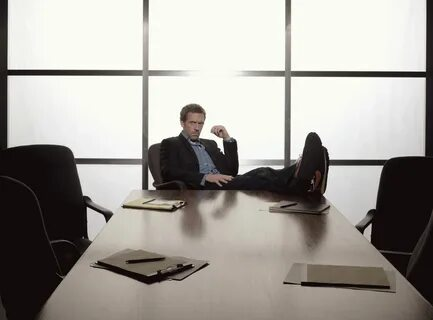awake: (159, 102, 329, 198)
